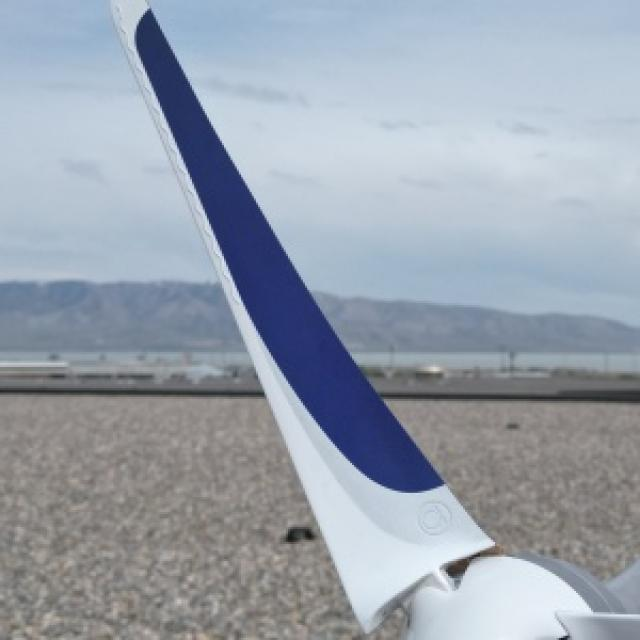healthy: (115, 0, 640, 638)
